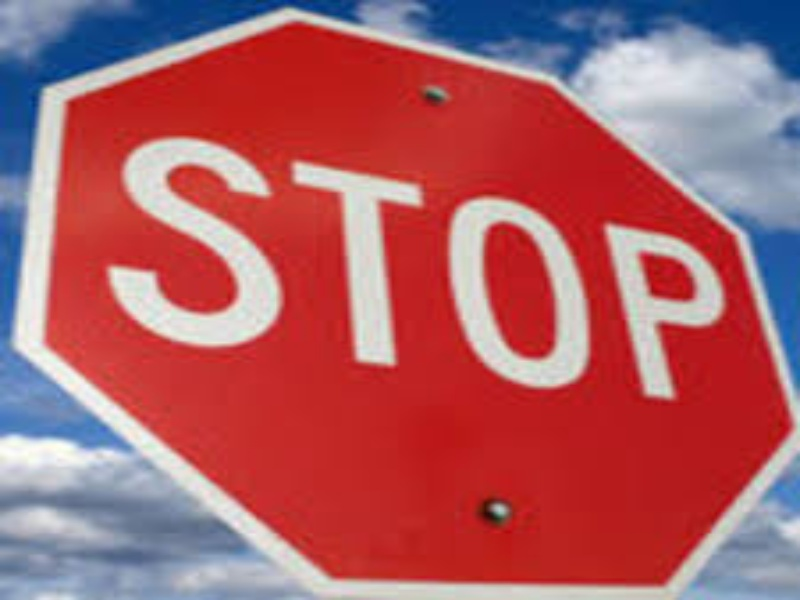Stop_Sign: (17, 11, 800, 593)
